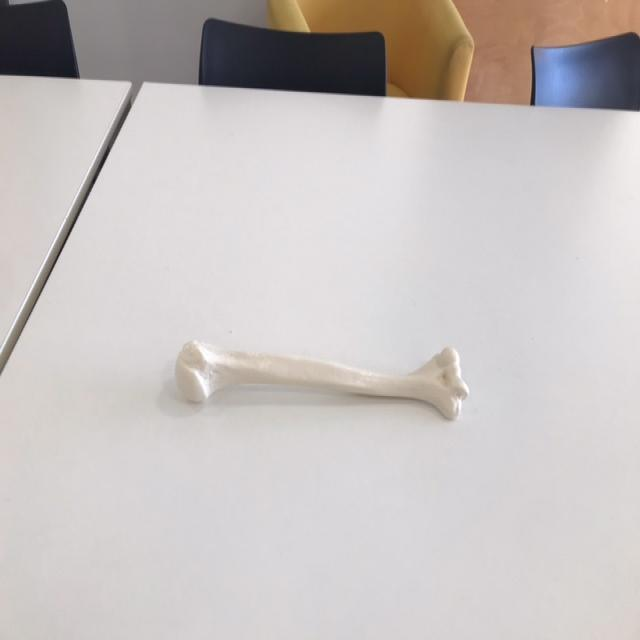bone: (172, 335, 468, 423)
